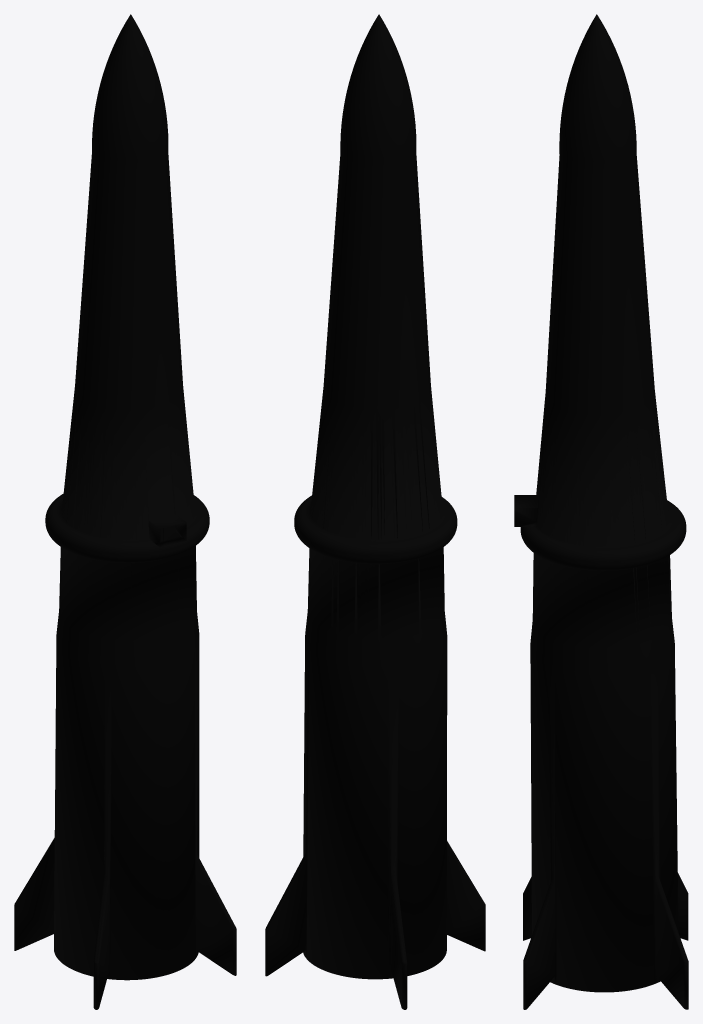
The model's file is Без имени.glb.
3 renders of one model, left to right at view 1: azimuth 30°, elevation 25°; view 2: azimuth 150°, elevation 25°; view 3: azimuth 270°, elevation 25°, orthographic.
Parts seen in each view (by area): view 1: Object_2; view 2: Object_2; view 3: Object_2.
Boxes of the visible parts, x1,y1,x2,y2 form: Object_2: (14, 14, 236, 1009); Object_2: (265, 14, 485, 1009); Object_2: (514, 14, 688, 1009).
Size of the model in its own units: 8.05 by 51.19 by 8.42.
1 material, 1 textured.
